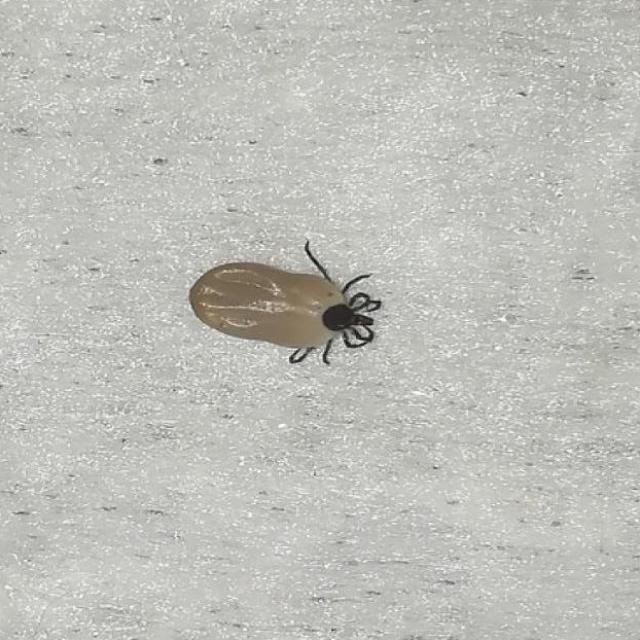Ixodes Ricinus-F-Fed: (189, 242, 384, 364)
